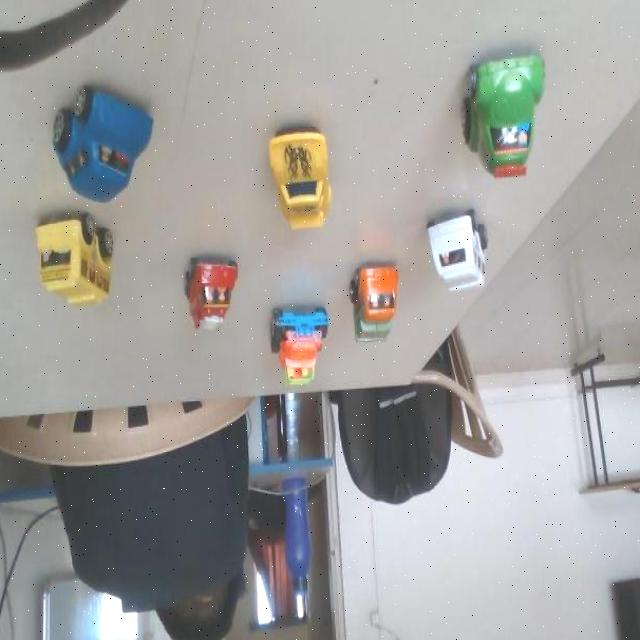car: (419, 0, 616, 219), (232, 97, 388, 240), (408, 182, 518, 316), (68, 84, 156, 200), (254, 301, 332, 401), (344, 247, 410, 361), (51, 210, 129, 300), (185, 245, 246, 333)
